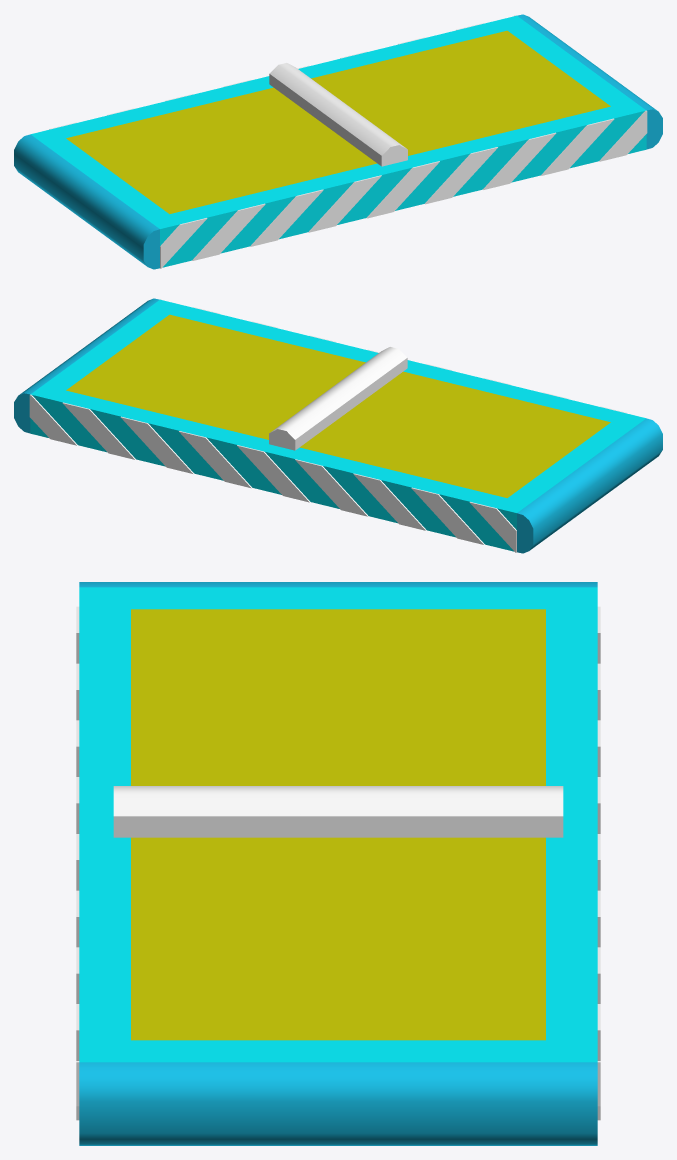
File: switchboard.glb
3 renders of one model, top to bottom at view 1: azimuth 30°, elevation 25°; view 2: azimuth 150°, elevation 25°; view 3: azimuth 270°, elevation 25°, orthographic. The views are drawn at different scales.
Visible parts, largest first — view 1: board; view 2: board; view 3: board.
Part boxes in pixels (x1=…): board: x1=14, y1=14, x2=662, y2=269; board: x1=14, y1=298, x2=662, y2=553; board: x1=76, y1=582, x2=600, y2=1145.
Size of what is drawn, in the model's own units: 6.94 by 0.7224 by 3.03.
Materials: 3 (2 with a texture image).
